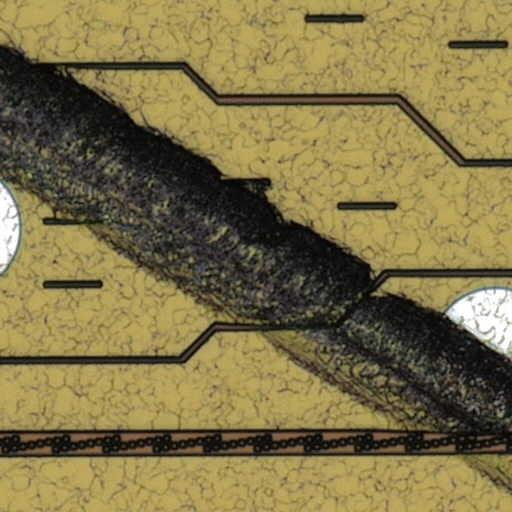SCRATCH: (1, 35, 512, 501)
